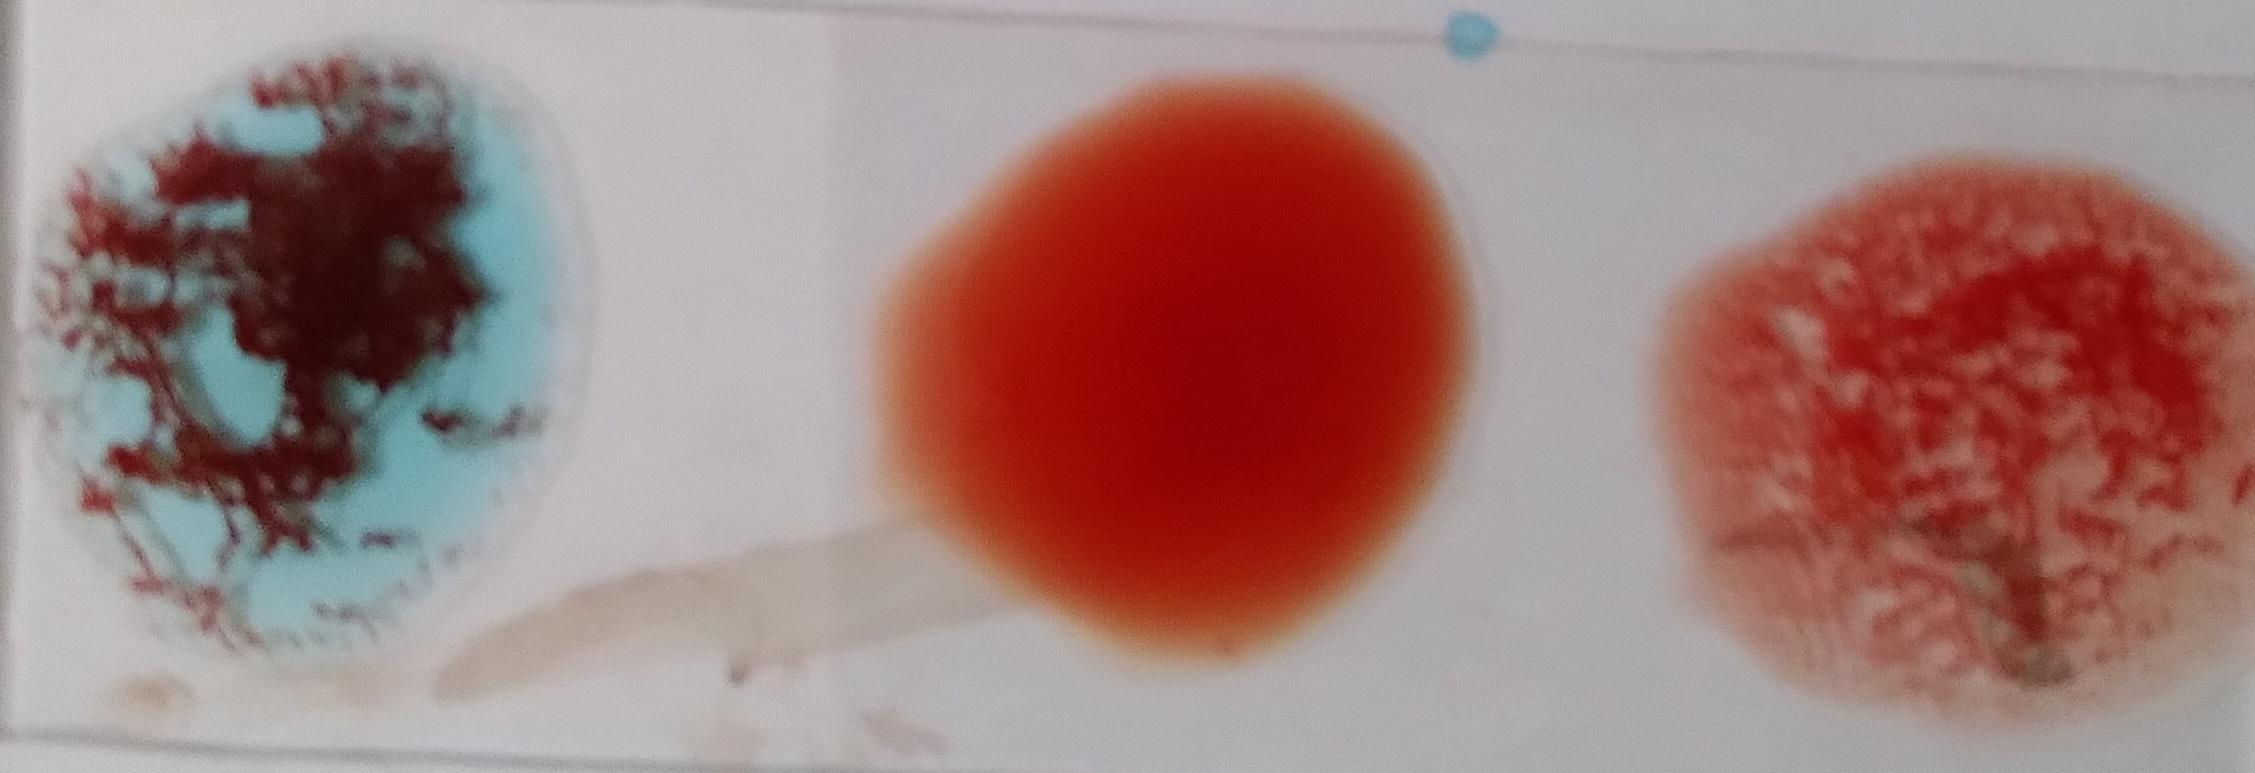A: (46, 66, 557, 649)
D: (1703, 162, 2229, 711)
